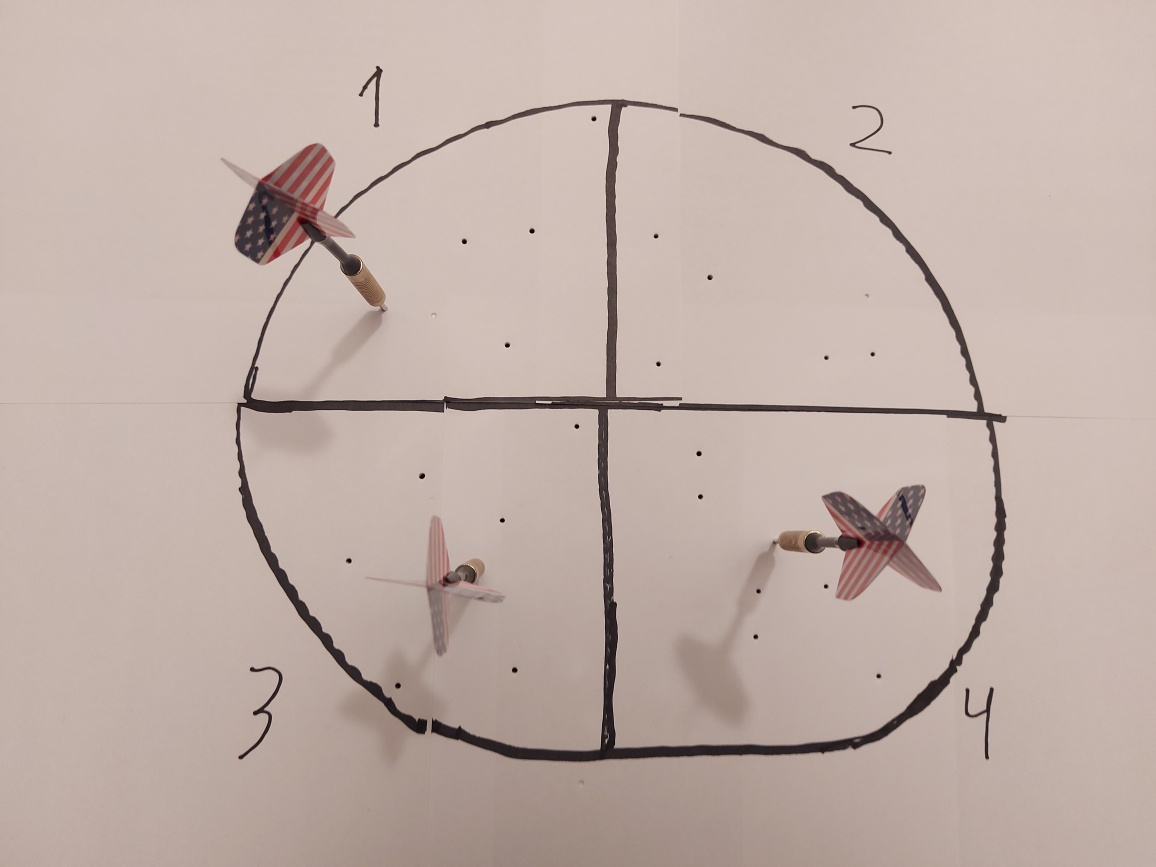Dart: (213, 137, 401, 320), (763, 470, 952, 617), (358, 502, 516, 661)
